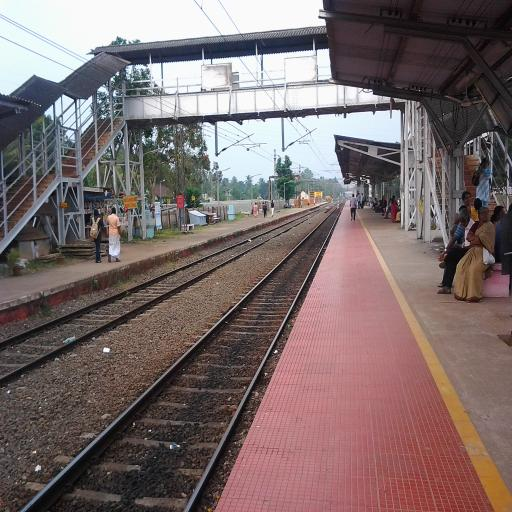platform_edge: (211, 306, 512, 512), (301, 226, 410, 304)
